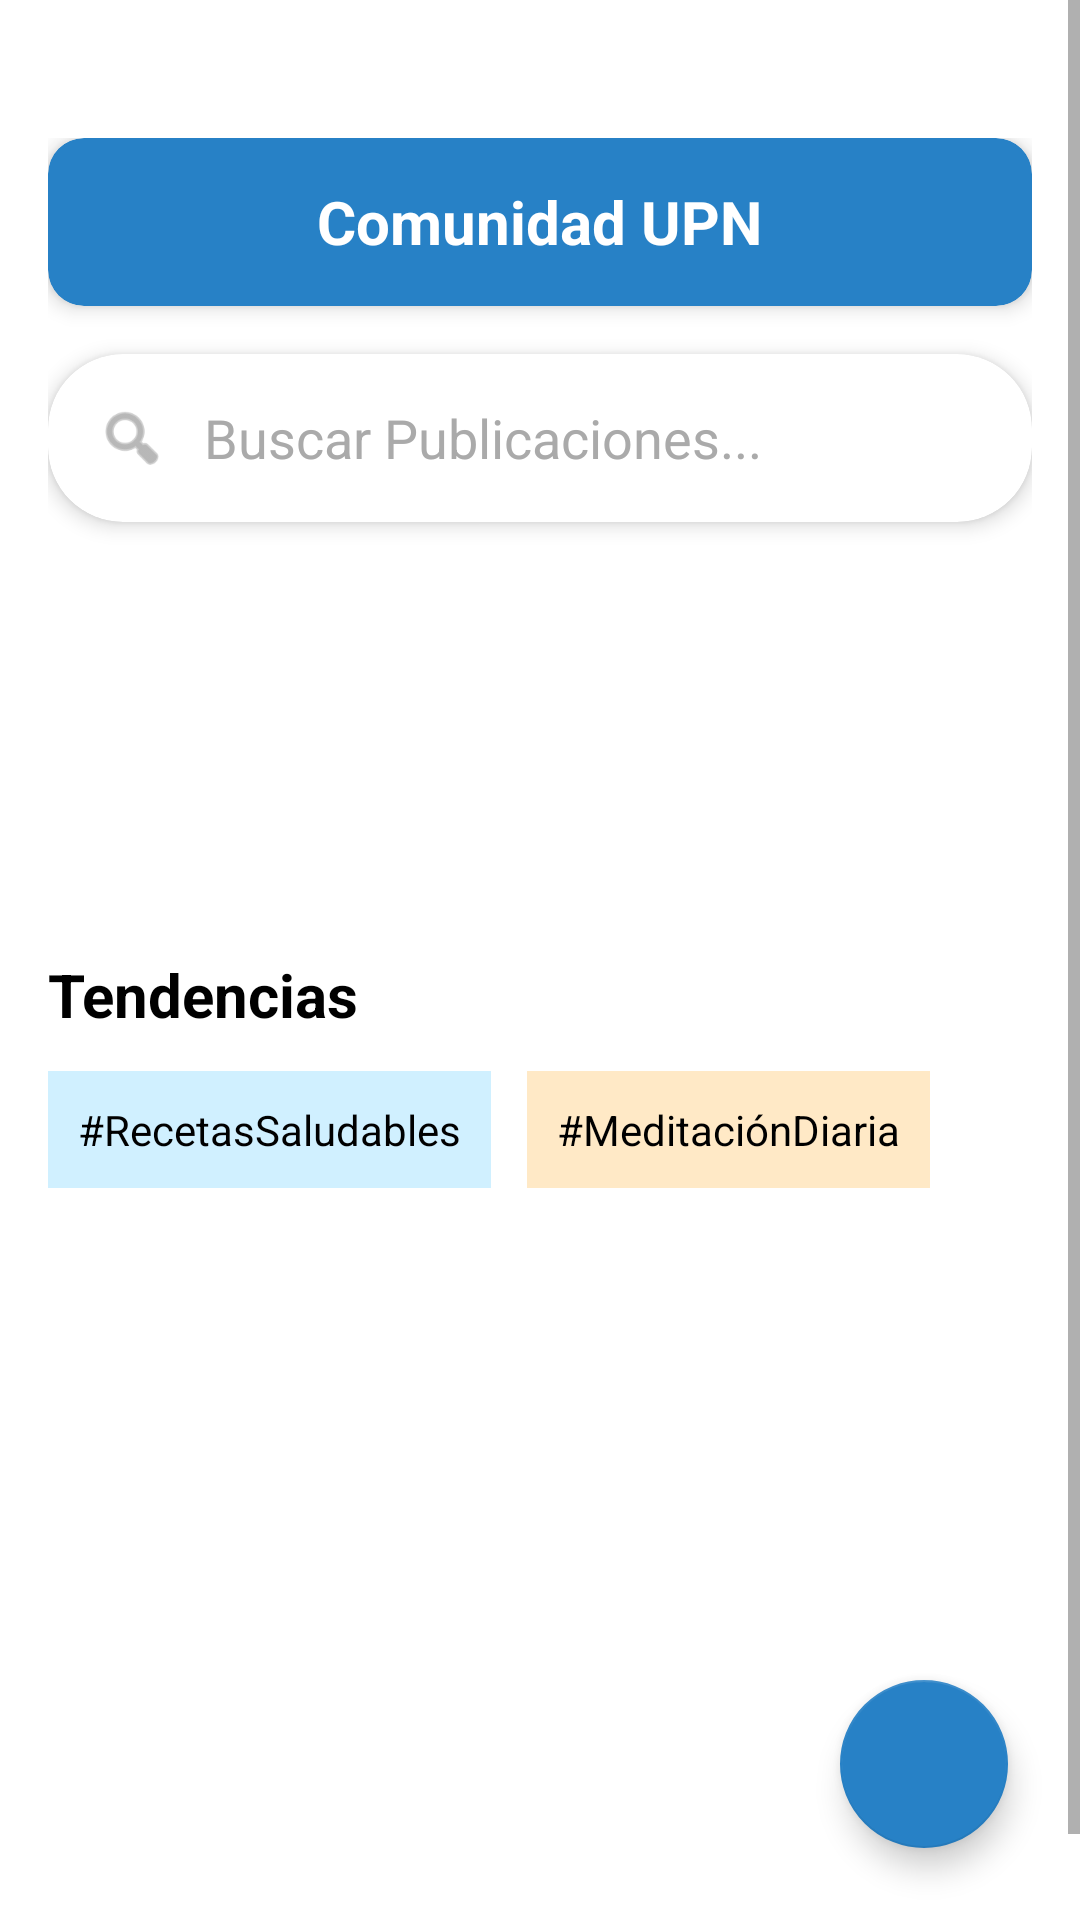

Icons on this 1080*1920 Android screen, each with its box as (x1, y1, x2, y2):
search: (106, 412, 158, 465)
